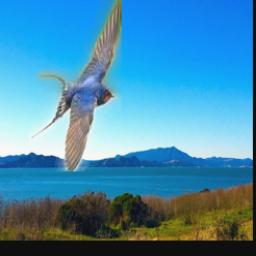Swallow: (30, 0, 123, 172)
